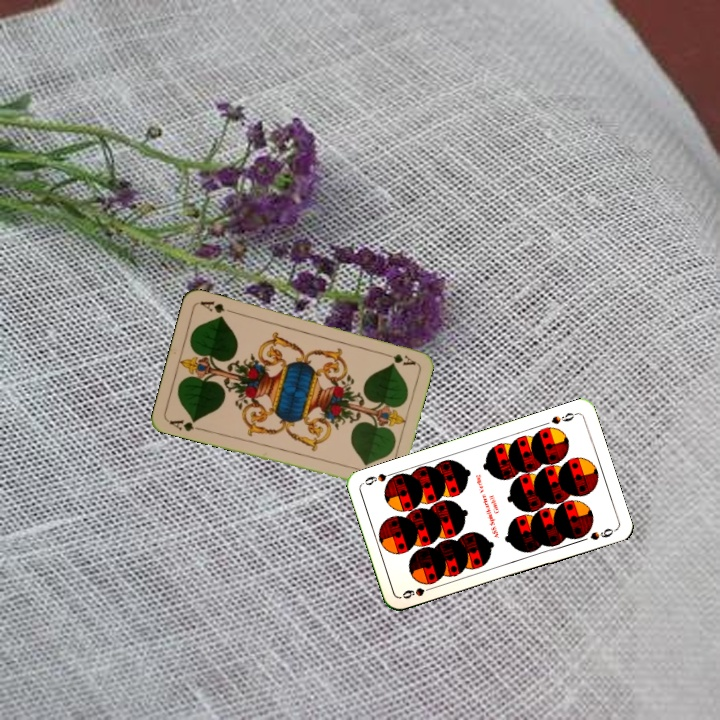GA: (378, 348, 418, 368), (165, 415, 205, 434)
S9: (398, 582, 438, 601), (547, 408, 580, 427)
